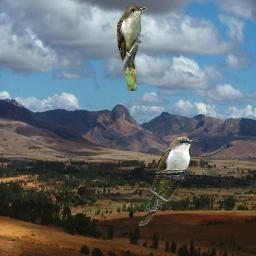Cuckoo: (138, 135, 194, 226), (117, 2, 147, 91)
